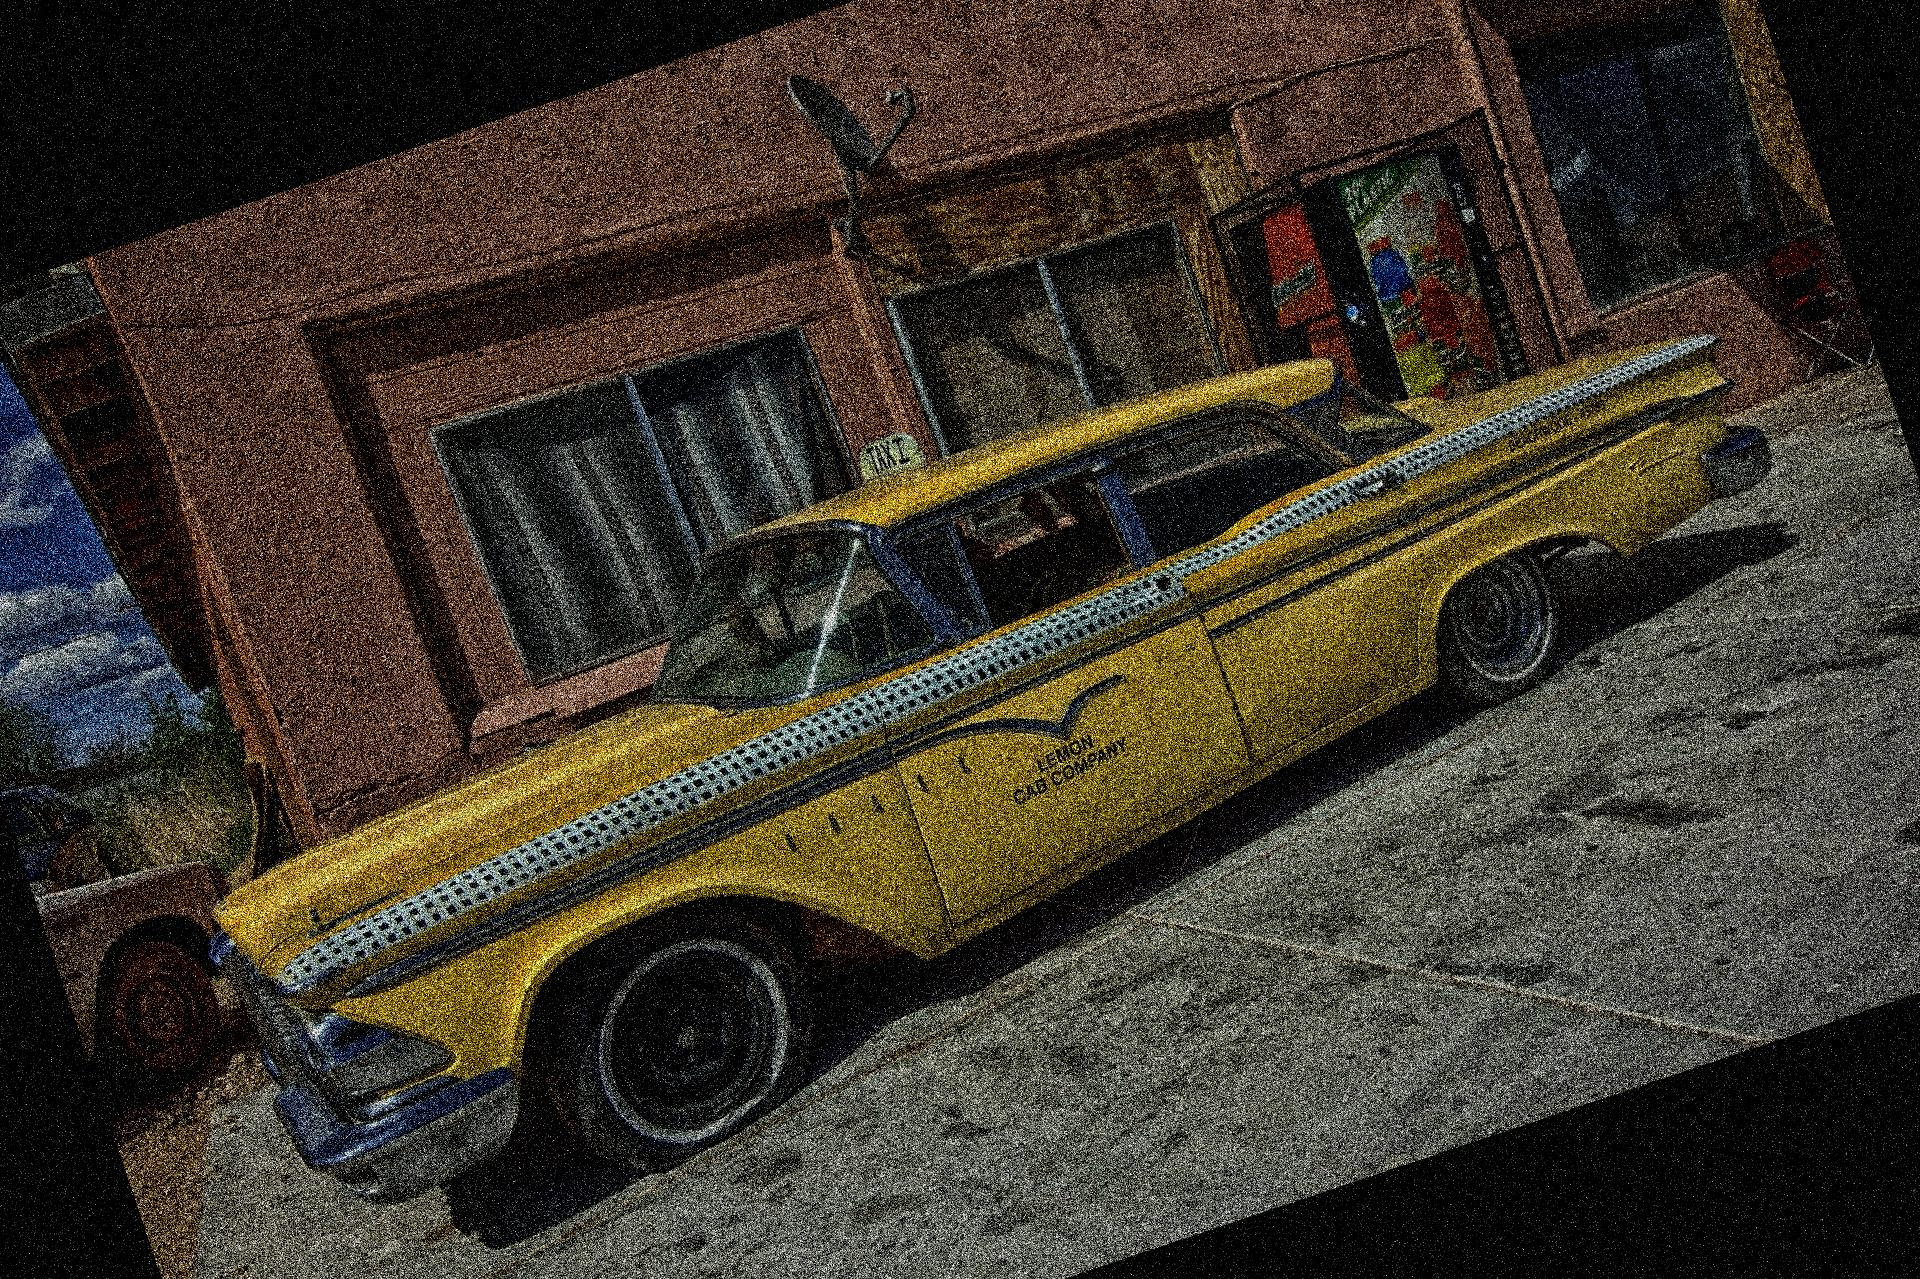taxi: (211, 328, 1754, 1238)
